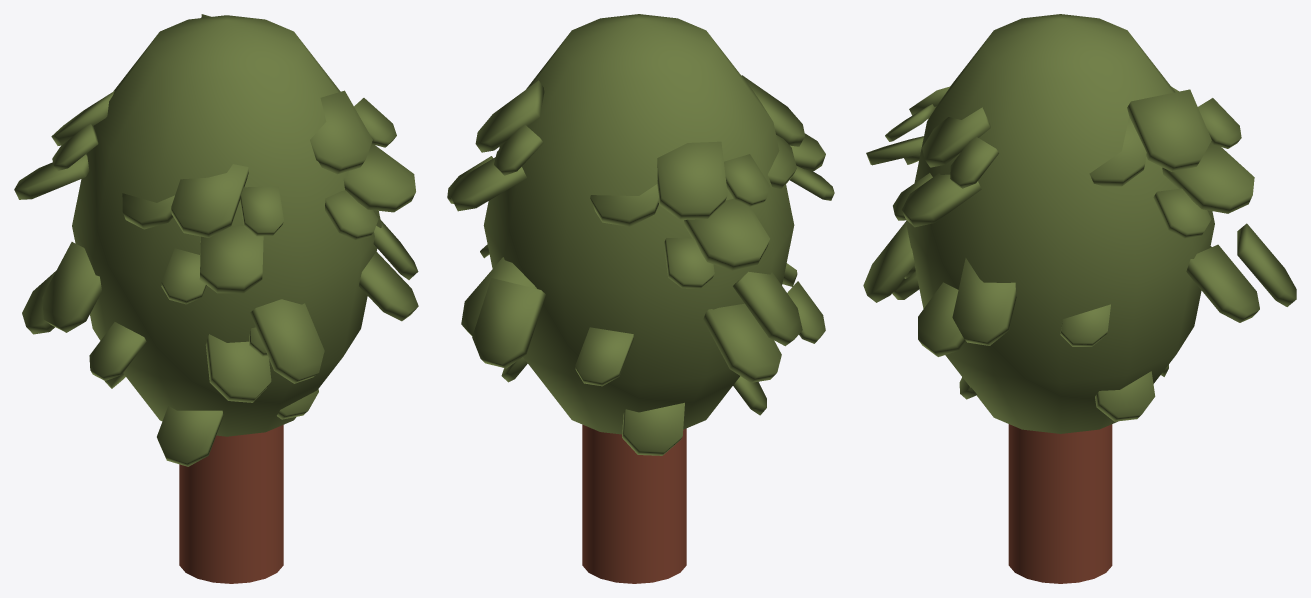
The model's file is Arbre.fbx.
3 views of the same model, side by side, from view 1: azimuth 30°, elevation 25°; view 2: azimuth 150°, elevation 25°; view 3: azimuth 270°, elevation 25° (orthographic).
Visible parts, largest first — view 1: Arbre; view 2: Arbre; view 3: Arbre.
Boxes of the visible parts, <box> form: Arbre: <box>14,14,418,583</box>; Arbre: <box>447,14,834,583</box>; Arbre: <box>863,14,1296,583</box>.
Bounding box in the file's own units: 326 × 528 × 384.
